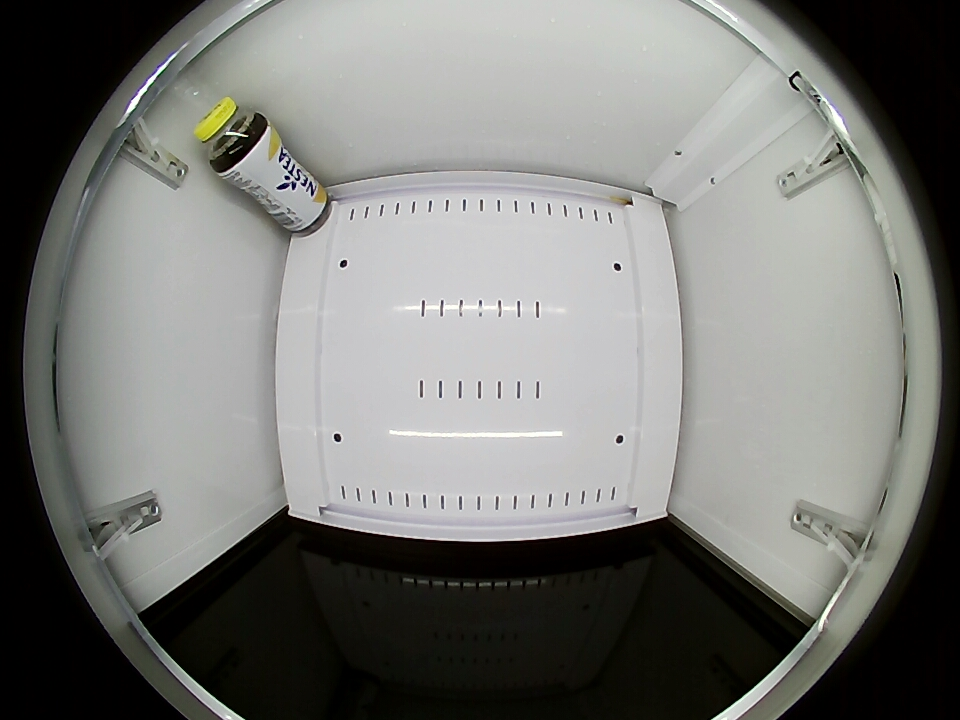chacui: (194, 97, 271, 179)
